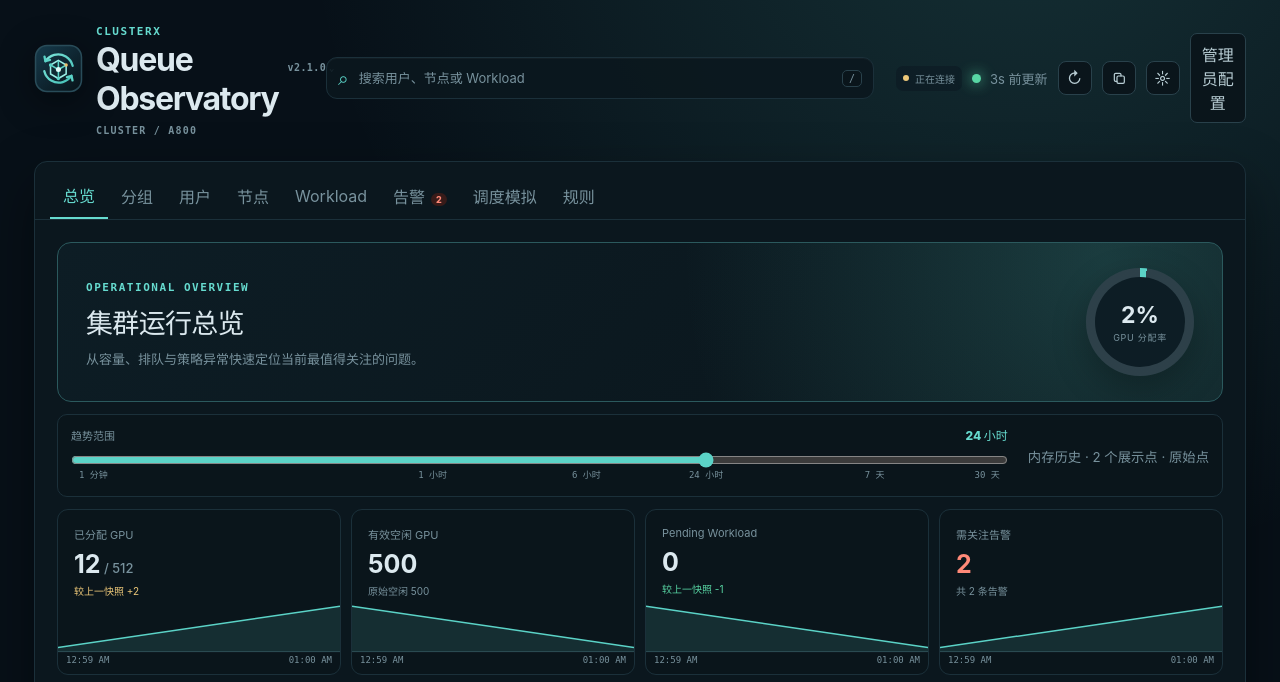
Test: Clusterx monitor dashboard › prefills workload group and owned node scope in the planner
Expected: the heading "Queue Observatory" is shown, left=96, top=40, right=278, bottom=118
Click the button with aria-label "workloads".
click(331, 196)  # box left=282, top=173, right=380, bottom=219
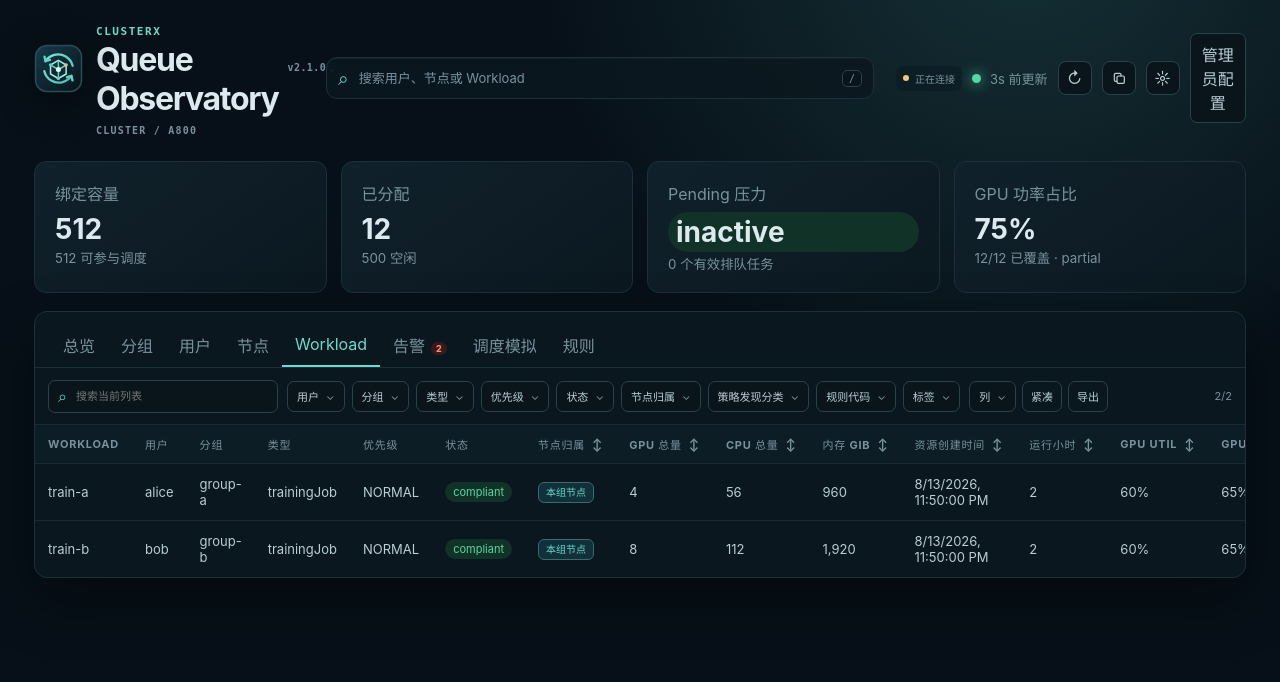
Click the row named "查看 train-a 详情".
click(658, 492)  # box left=35, top=464, right=1279, bottom=520
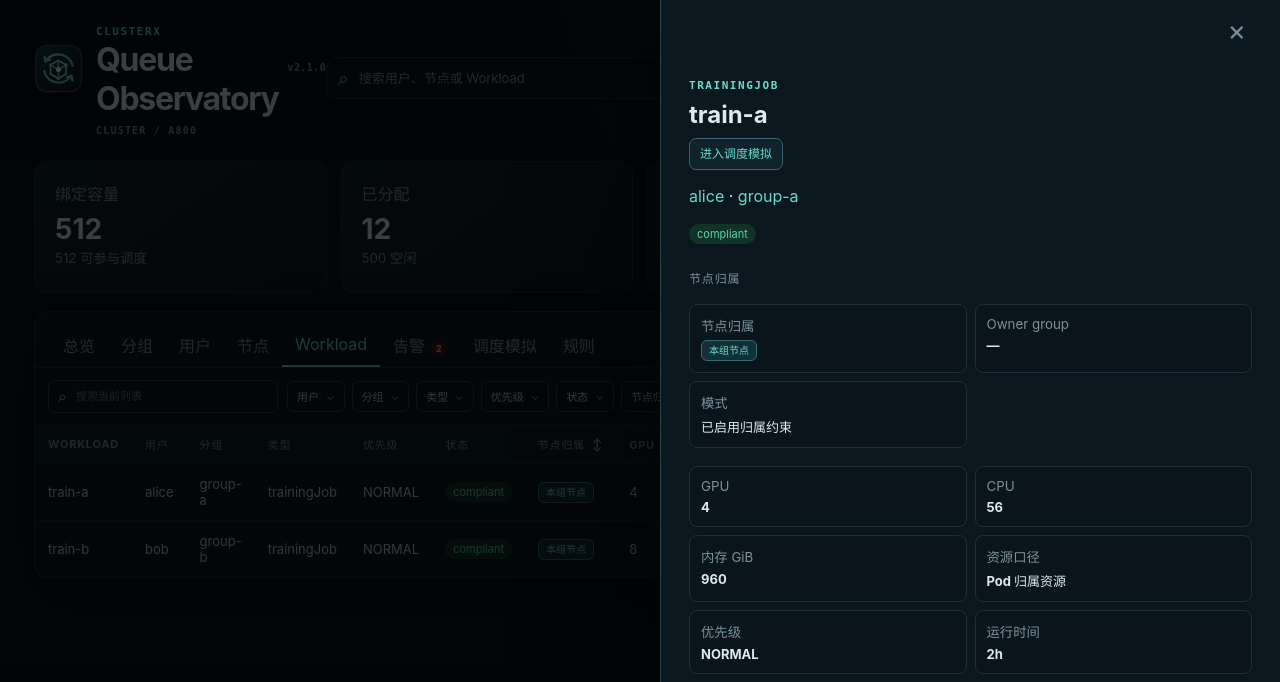
Click the button "进入调度模拟".
click(736, 154)  # box left=689, top=138, right=783, bottom=170
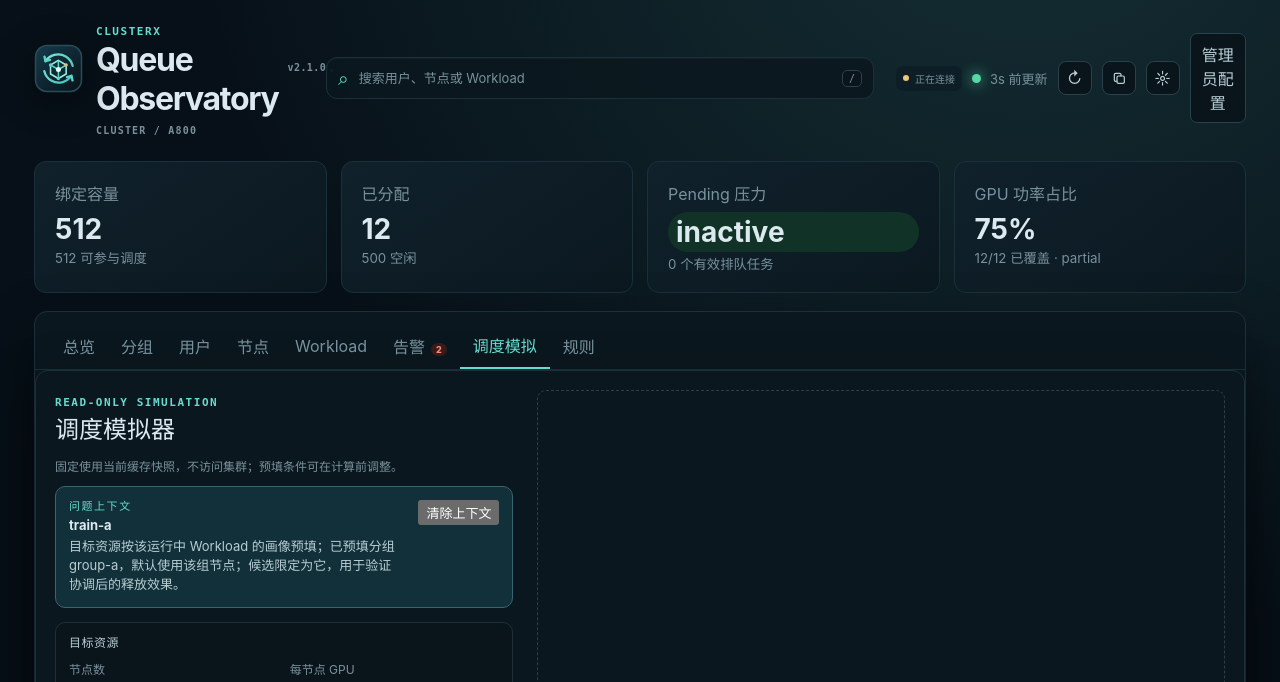
Click the button "清除上下文".
click(459, 512)  # box left=418, top=500, right=499, bottom=525
(page scrolled)
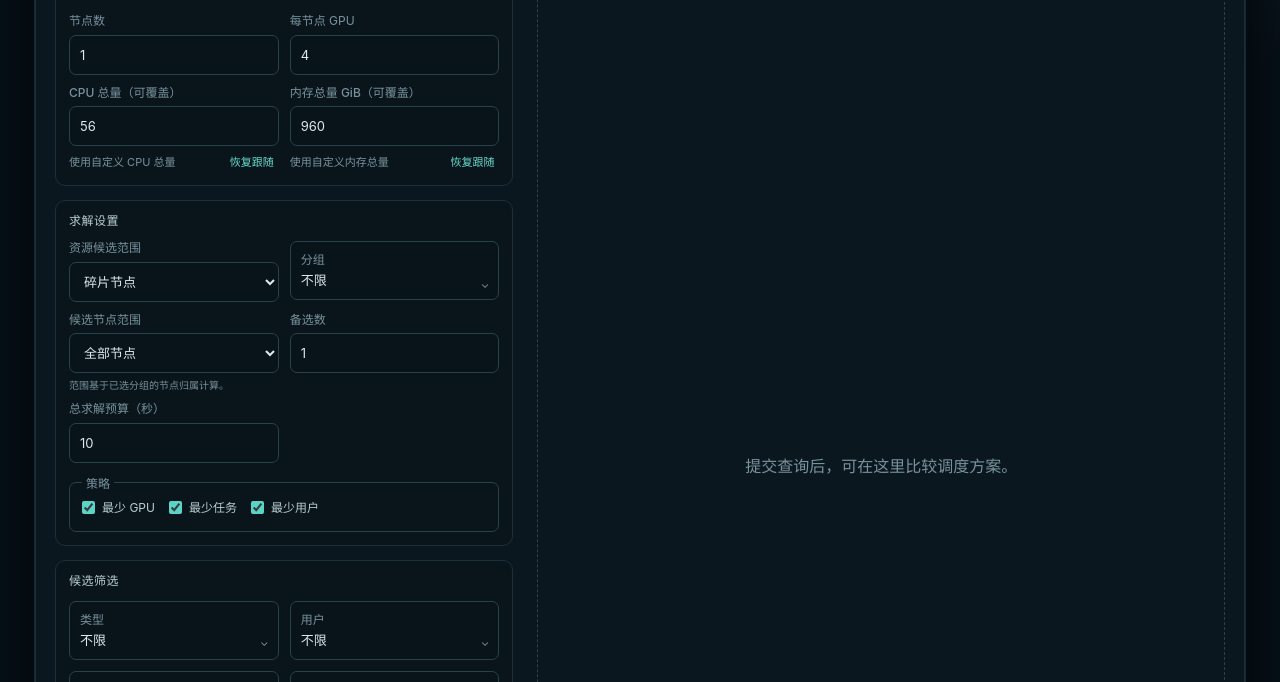
Result: the heading "分组 不限" is shown at left=290, top=242, right=499, bottom=300
Result: the dropdown labelled "候选节点范围" shows "全部节点" at left=69, top=333, right=279, bottom=373
